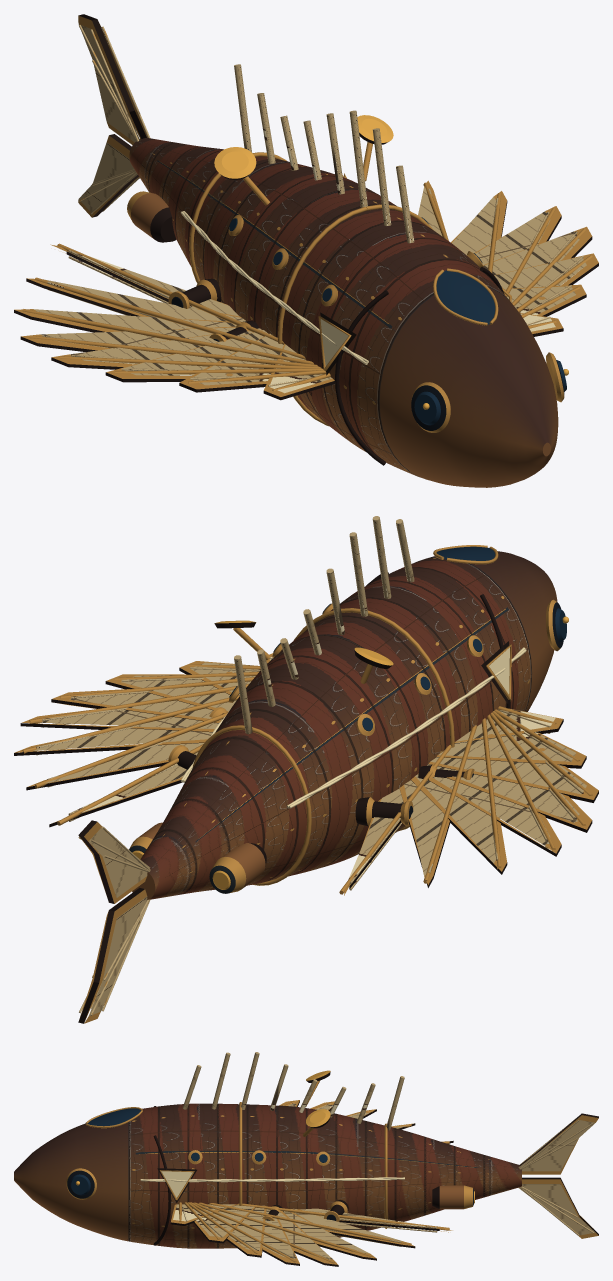
3 renders of one model, top to bottom at view 1: azimuth 30°, elevation 25°; view 2: azimuth 150°, elevation 25°; view 3: azimuth 270°, elevation 25°, orthographic. The views are drawn at different scales.
Visible parts, largest first — view 1: lionfish_hull; view 2: lionfish_hull; view 3: lionfish_hull.
Part boxes in pixels (x1=…): lionfish_hull: x1=14, y1=14, x2=598, y2=487; lionfish_hull: x1=14, y1=516, x2=598, y2=1023; lionfish_hull: x1=14, y1=1052, x2=598, y2=1266.
Size of the model in its own units: 25.23 by 13.82 by 38.
1 material, 1 textured.
